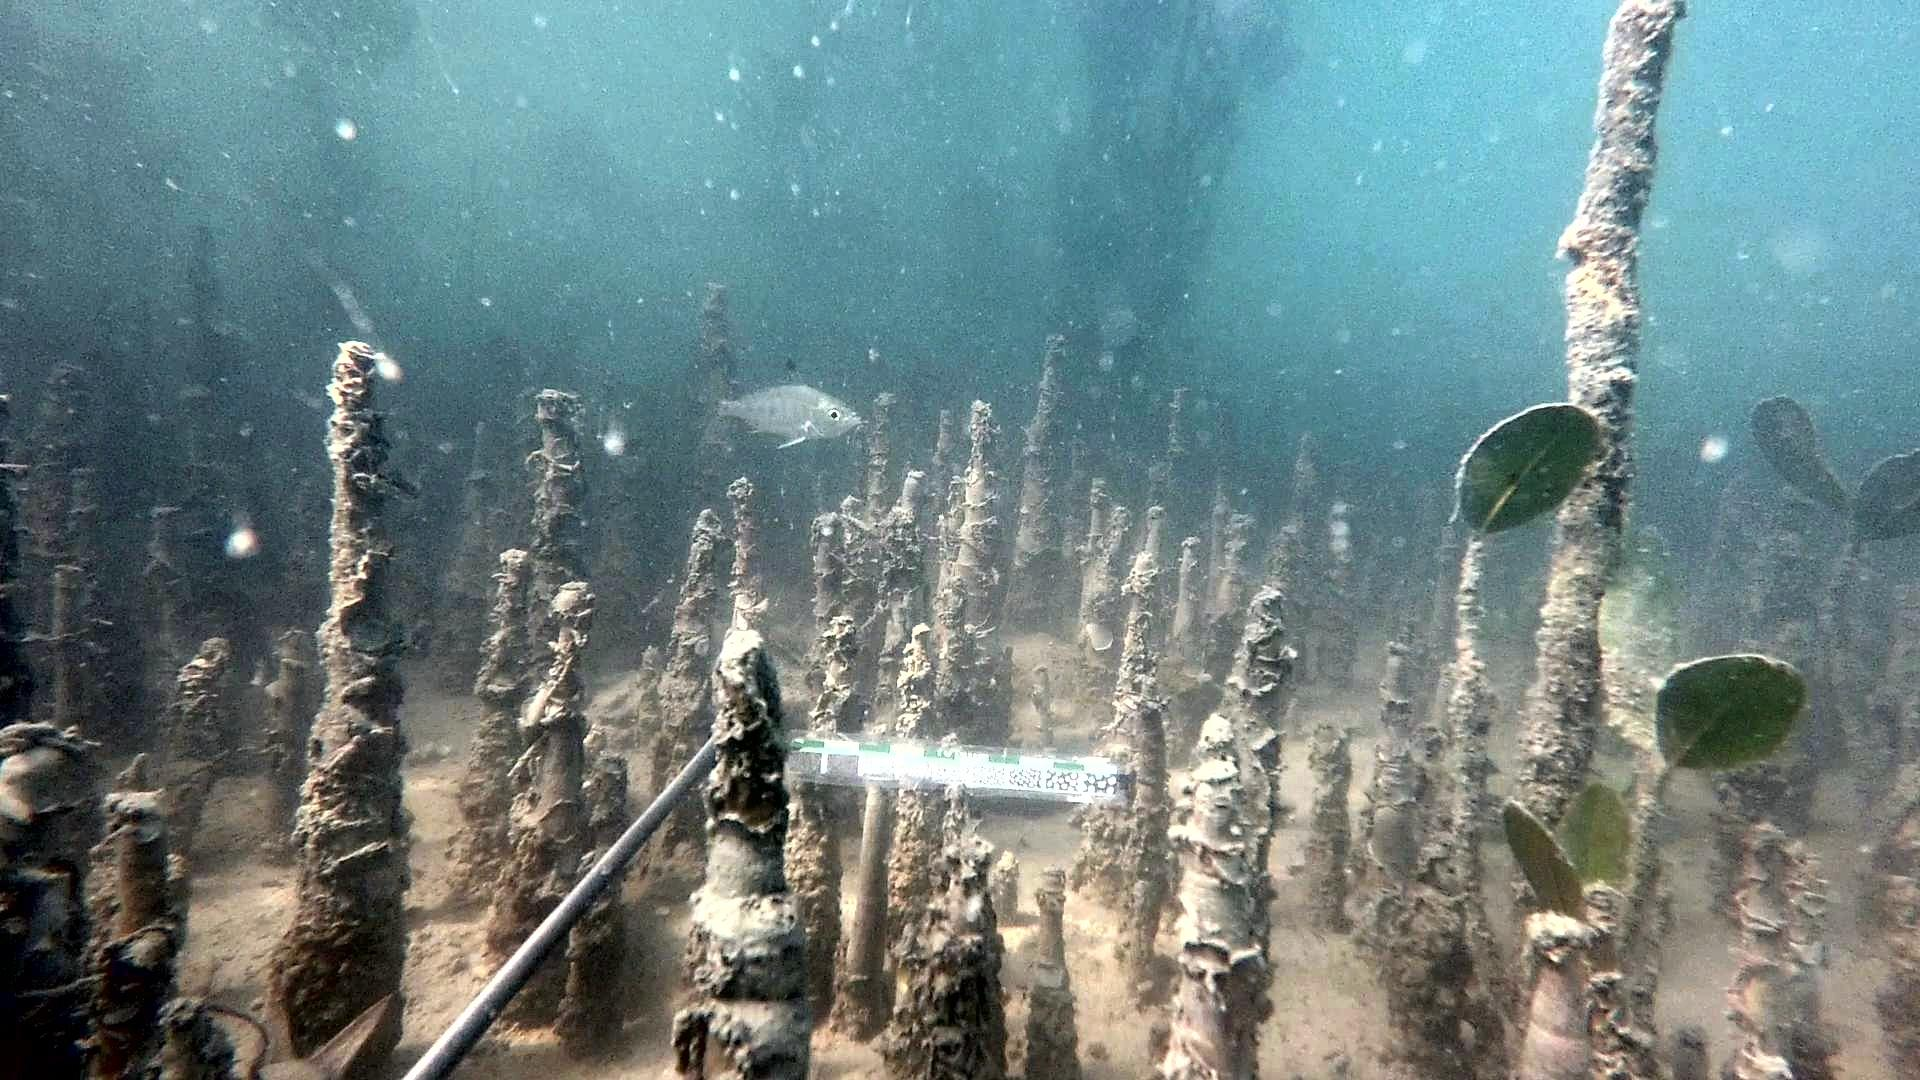gerres: (690, 355, 864, 450)
